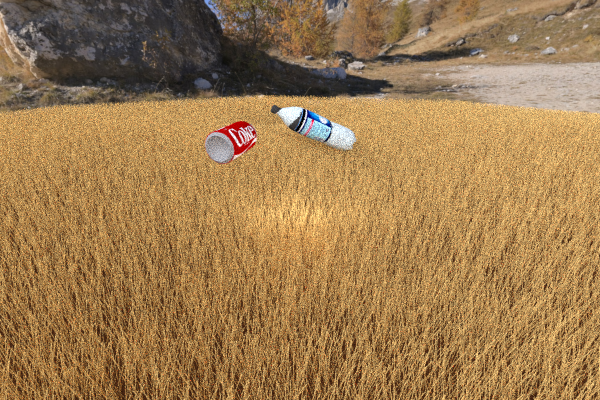Plastic Bottle: (270, 104, 356, 151), (204, 120, 256, 164)
